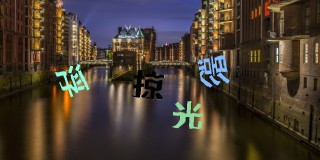光: (173, 98, 204, 130)
影: (197, 52, 231, 89)
掠: (131, 68, 164, 100)
浮: (54, 63, 90, 97)
